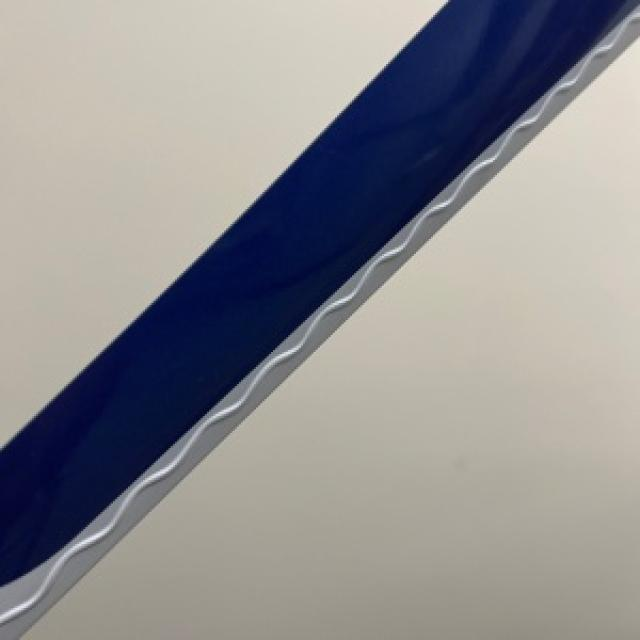healthy: (23, 38, 638, 638)
